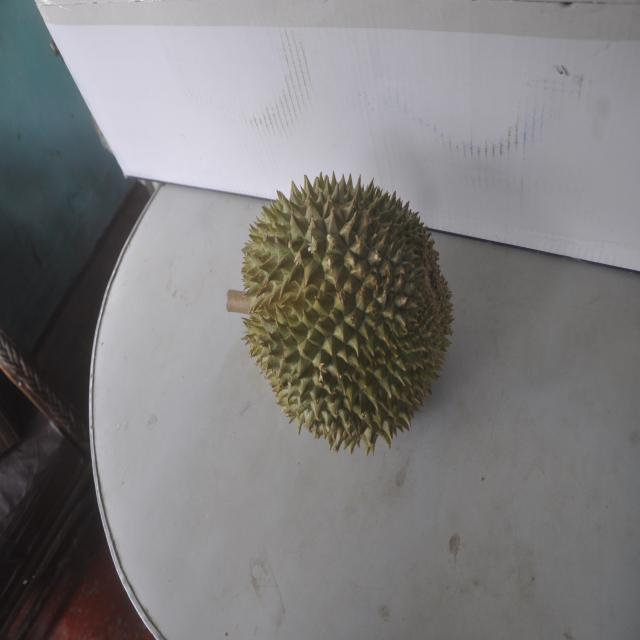mature: (236, 167, 446, 460)
